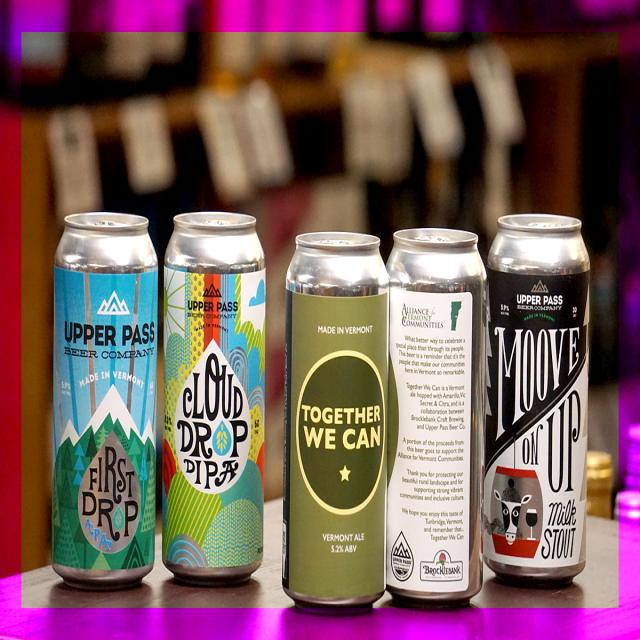can: (482, 213, 592, 587), (282, 232, 387, 614), (51, 210, 156, 591), (162, 211, 265, 588), (386, 227, 487, 606)
